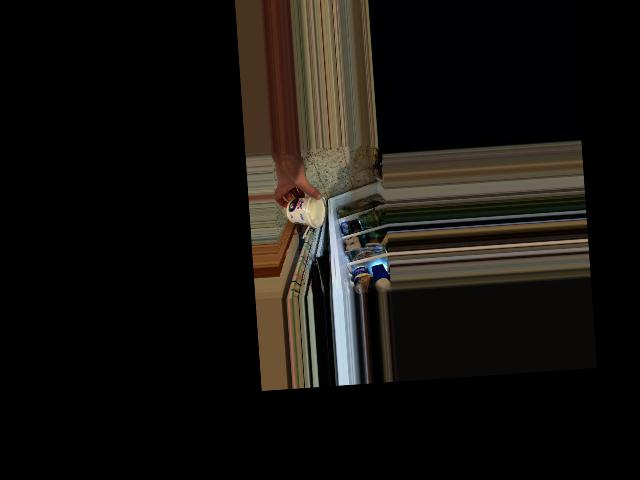cotage: (285, 193, 326, 226)
